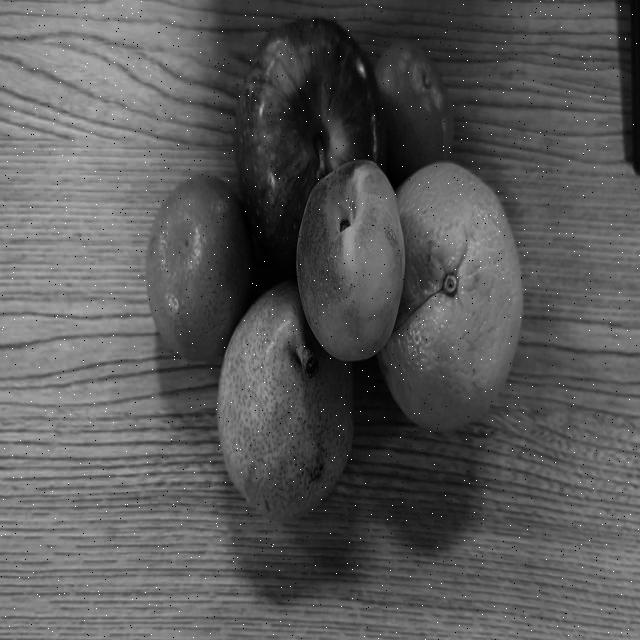Apel Merah: (240, 23, 396, 270)
Jeruk: (387, 173, 518, 421)
Jeruk Mandarin: (144, 171, 251, 343), (374, 14, 456, 168)
Persik: (302, 174, 402, 368)
Pir: (231, 290, 346, 518)
